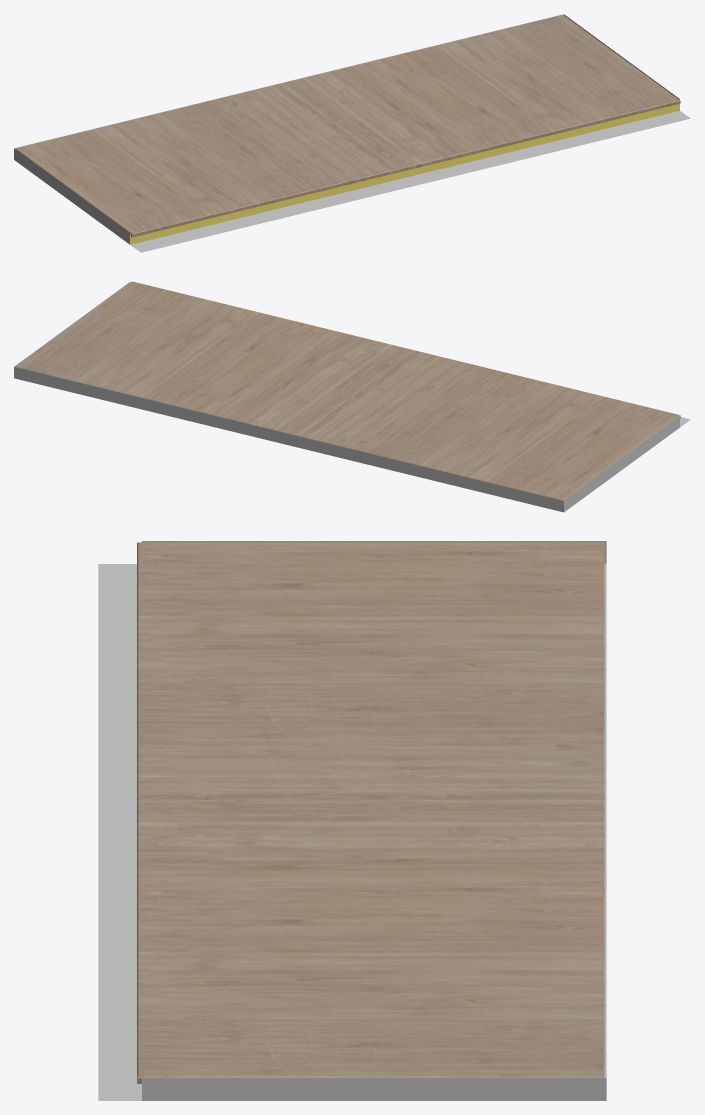
The picture shows the model from 3 angles, top to bottom: view 1: azimuth 30°, elevation 25°; view 2: azimuth 150°, elevation 25°; view 3: azimuth 270°, elevation 25°; orthographic projection. The views are drawn at different scales.
Visible parts, largest first — view 1: M_C_005_a_10x4; view 2: M_C_005_a_10x4; view 3: M_C_005_a_10x4.
Part boxes in pixels (left/top/right/bottom): M_C_005_a_10x4: left=14, top=14, right=690, bottom=252; M_C_005_a_10x4: left=14, top=281, right=690, bottom=512; M_C_005_a_10x4: left=98, top=541, right=606, bottom=1100.
Bounding box in the file's own units: 10 × 0.2 × 4.
